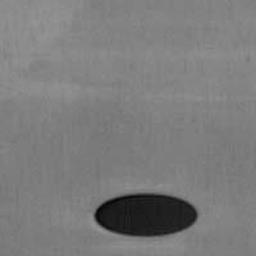Punching: (93, 192, 198, 237)
